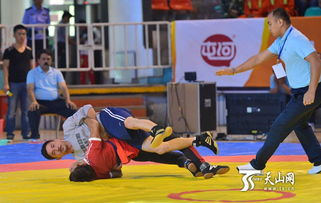10+: (1, 1, 321, 185)
down: (37, 99, 227, 166), (66, 112, 232, 186)
